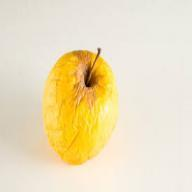apple: (41, 50, 119, 169)
